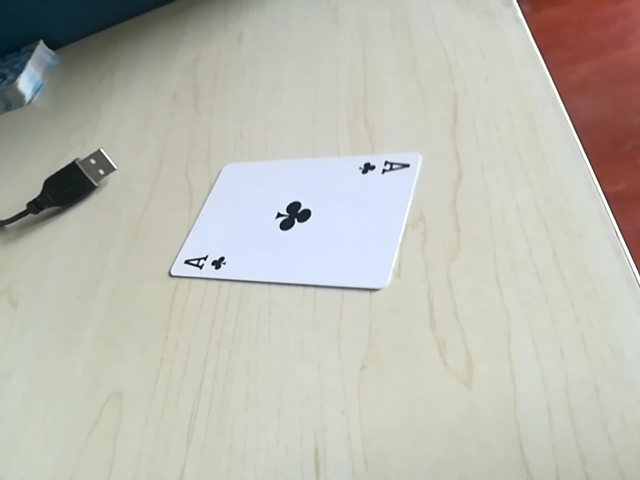mh a: (173, 249, 230, 280), (351, 156, 415, 182)
